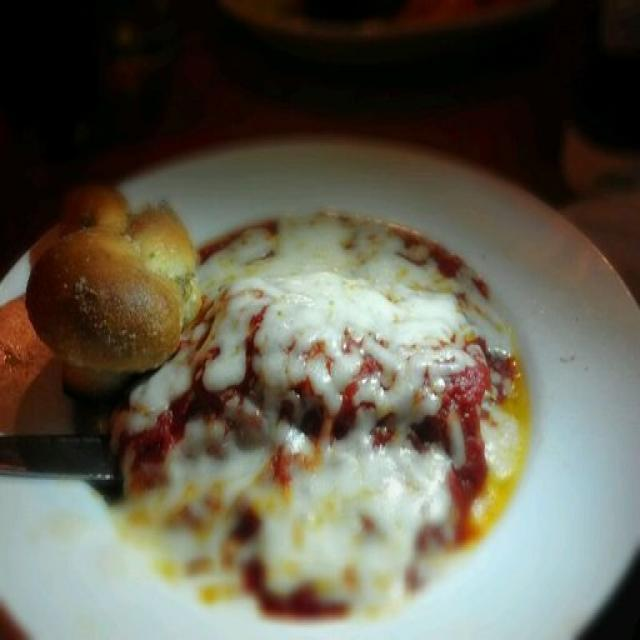Lasagna: (183, 203, 507, 579)
